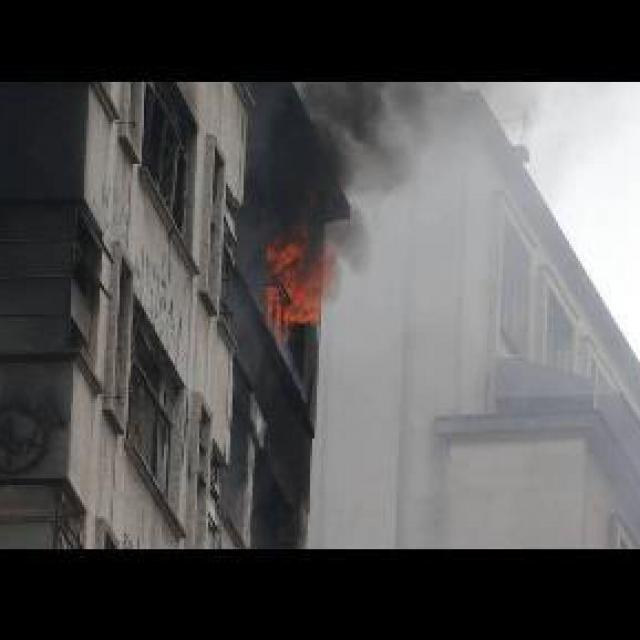fire: (264, 221, 329, 339)
smoke: (262, 81, 425, 238)
